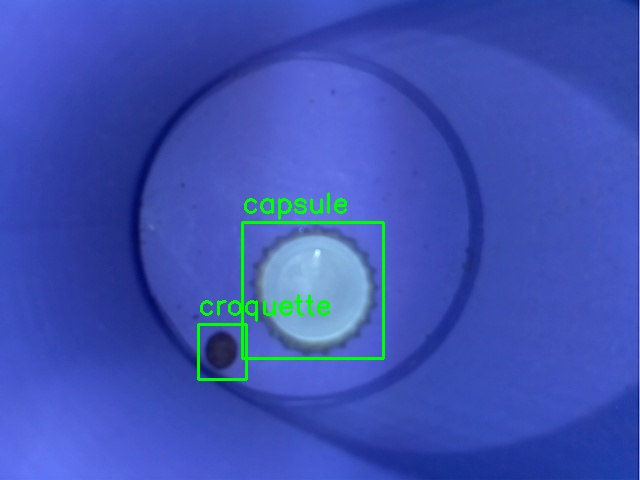capsule: (242, 222, 383, 358)
croquette: (198, 324, 246, 379)
